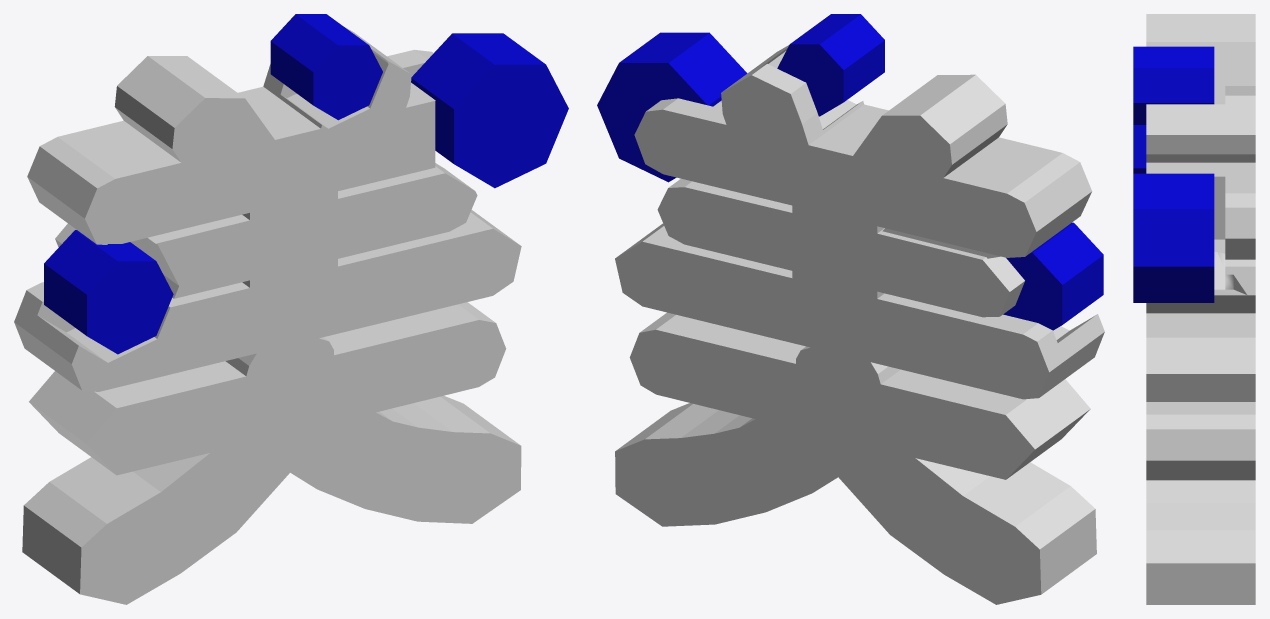
File: Ch_Lite_China_美_01.fbx
3 renders of one model, left to right at view 1: azimuth 30°, elevation 25°; view 2: azimuth 150°, elevation 25°; view 3: azimuth 270°, elevation 25°, orthographic. The views are drawn at different scales.
Parts seen in each view (by area): view 1: sphere1; view 2: sphere1; view 3: sphere1.
Part boxes in pixels (x1,y1,x2,y2): sphere1: (14, 14, 568, 604); sphere1: (597, 14, 1104, 604); sphere1: (1133, 14, 1255, 604).
Size of the model in its own units: 0.9816 by 0.991 by 0.2242.
